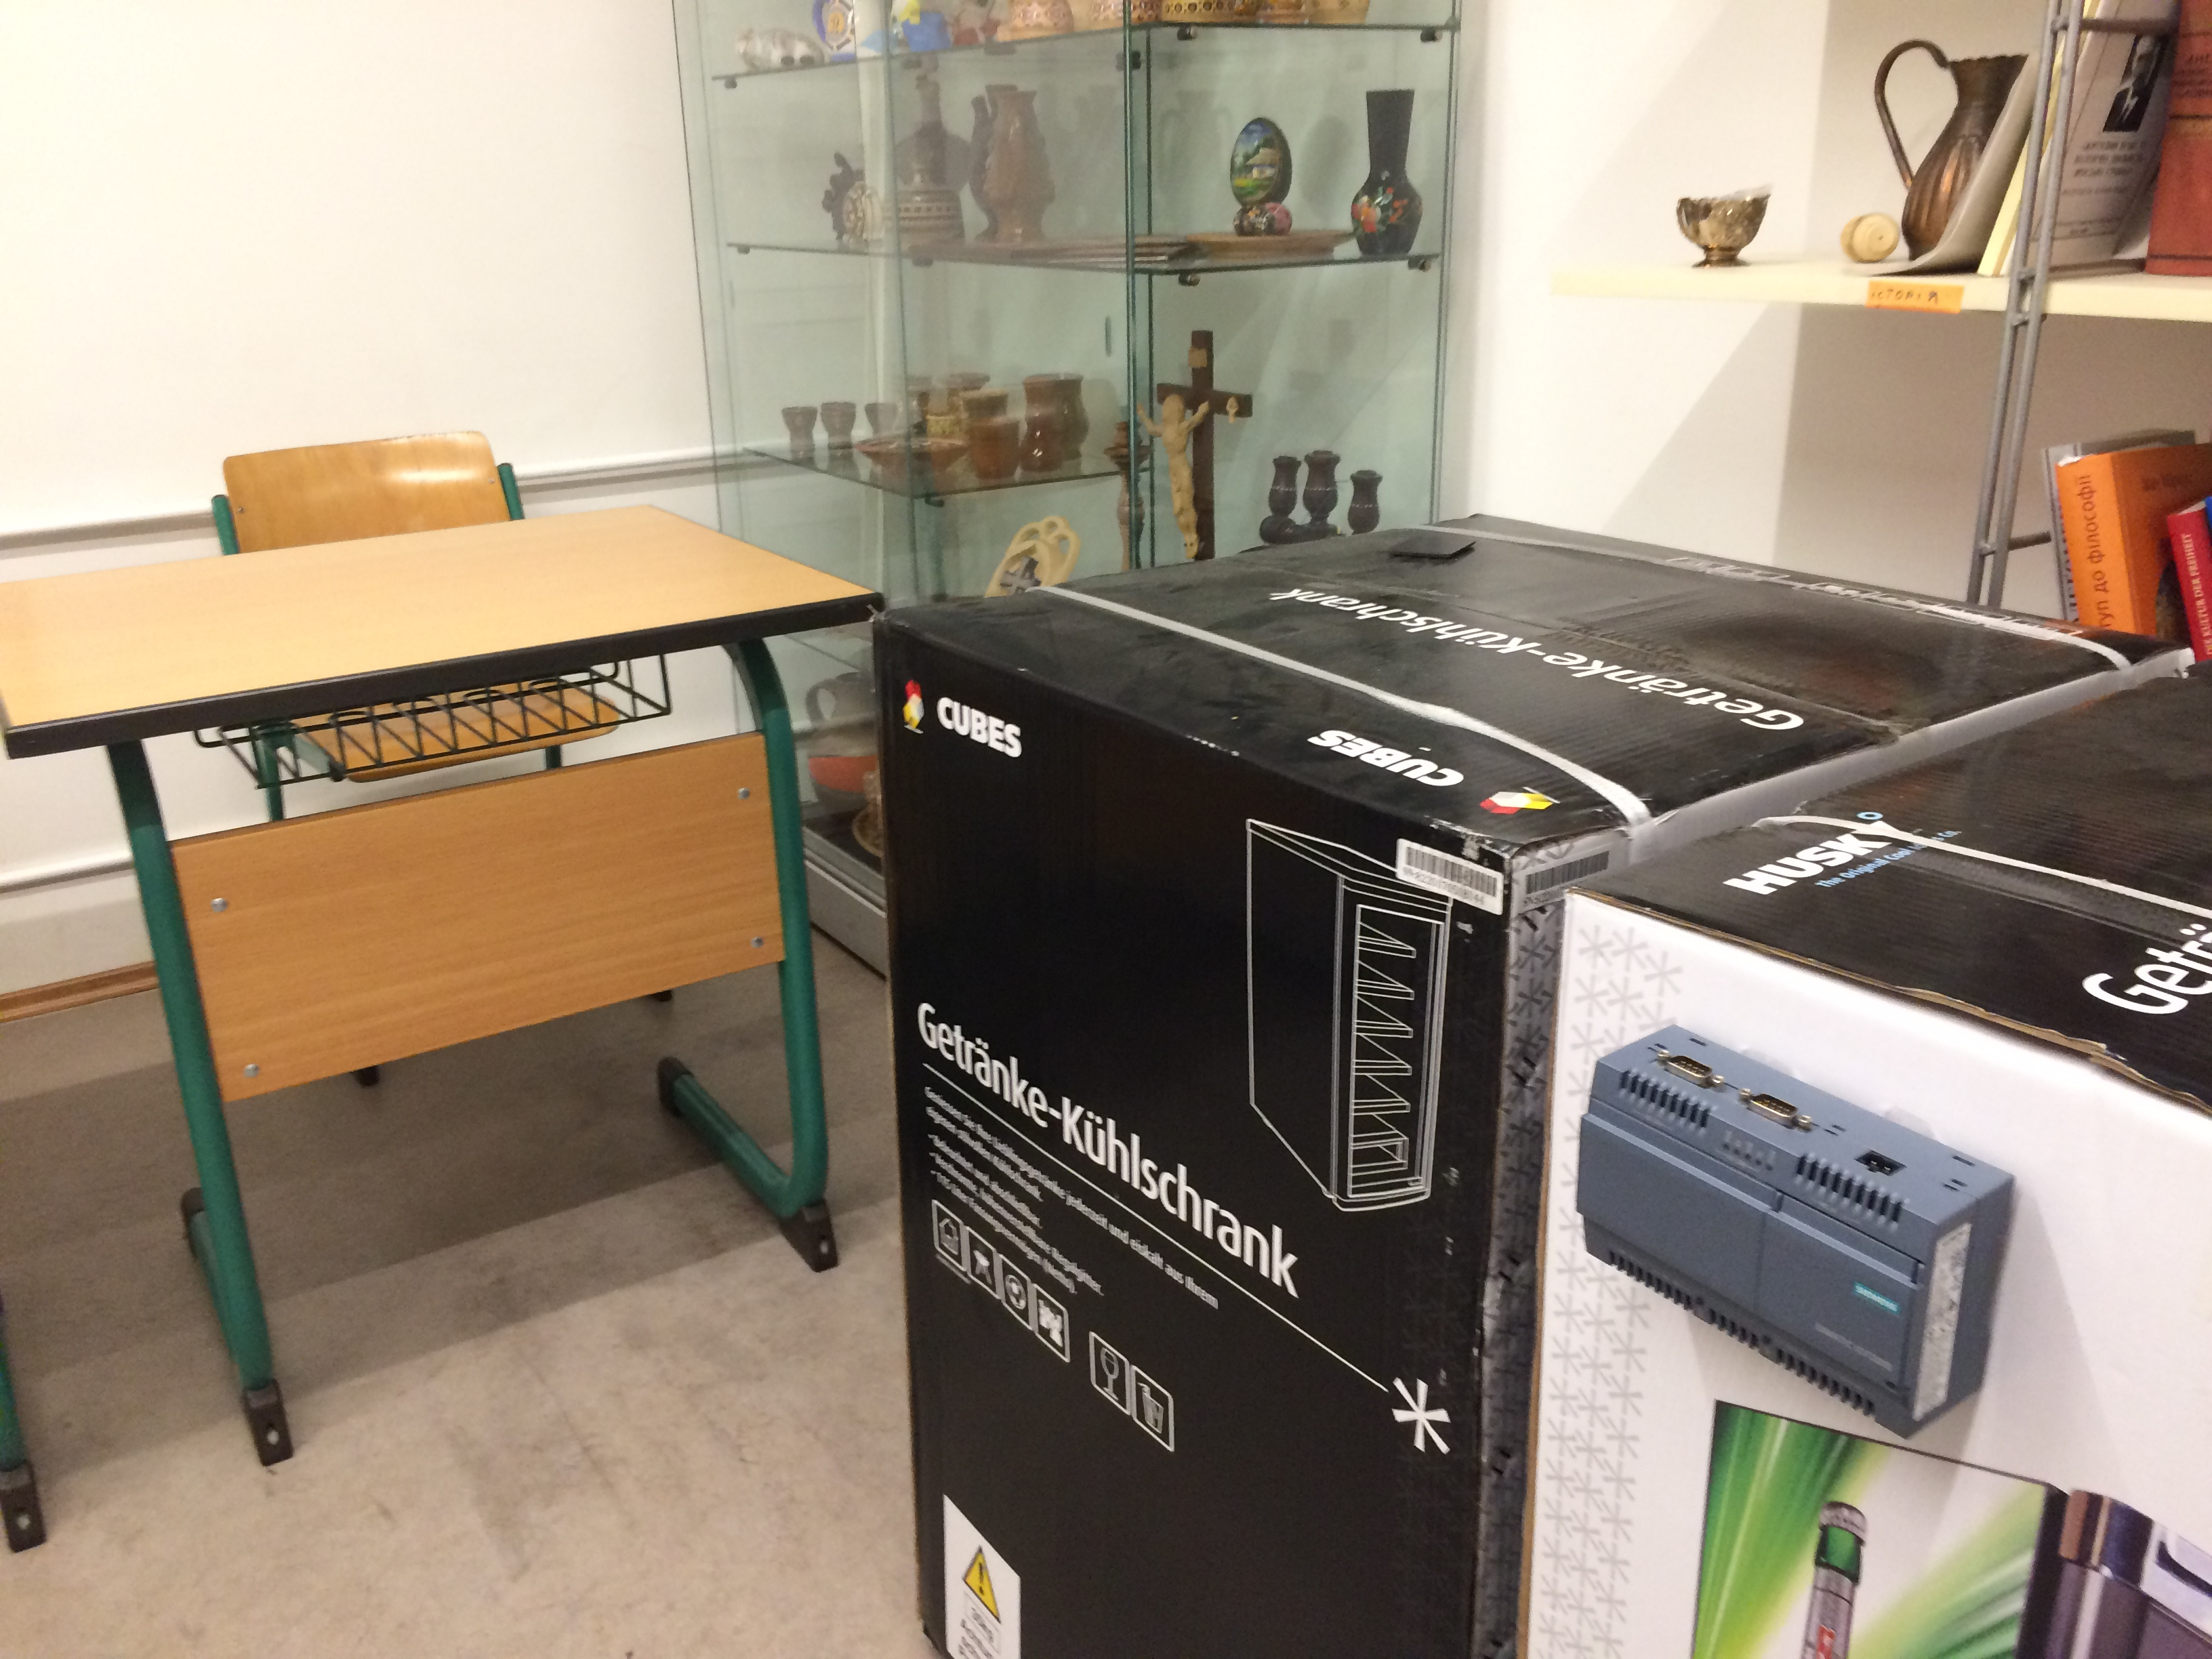iot2000: (1571, 1021, 2019, 1446)
